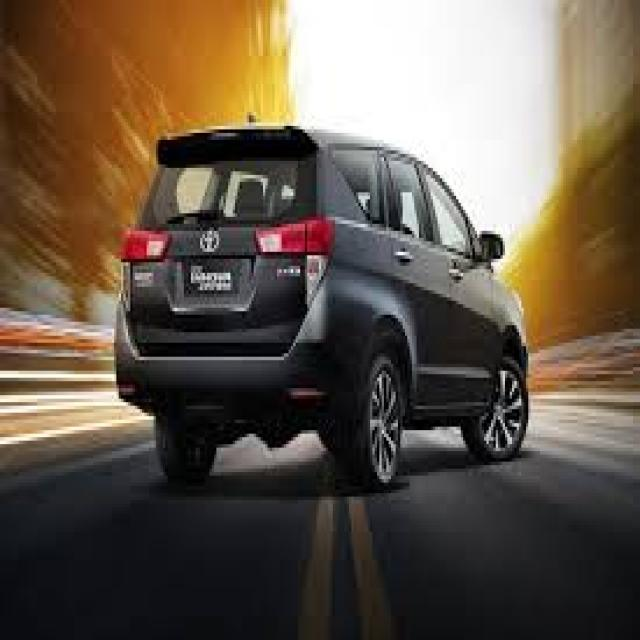light_vehicle: (115, 122, 530, 489)
